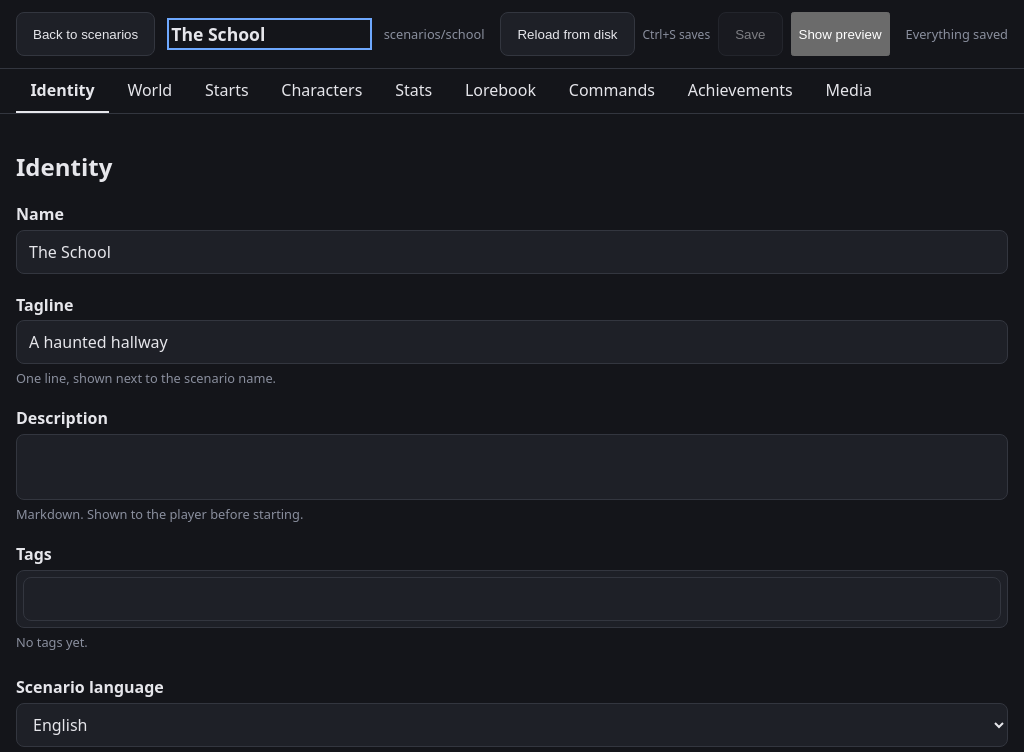
Test: BuilderEditorScreen › renders the identity tab with the name field from the draft and marks dirty on edit
expect the text "Everything saved" is shown: met, box [906,25,1008,43]
Type " Reborn" into the field labelled "Name".
click(512, 252); type(" Reborn")  # box [16,230,1008,274]
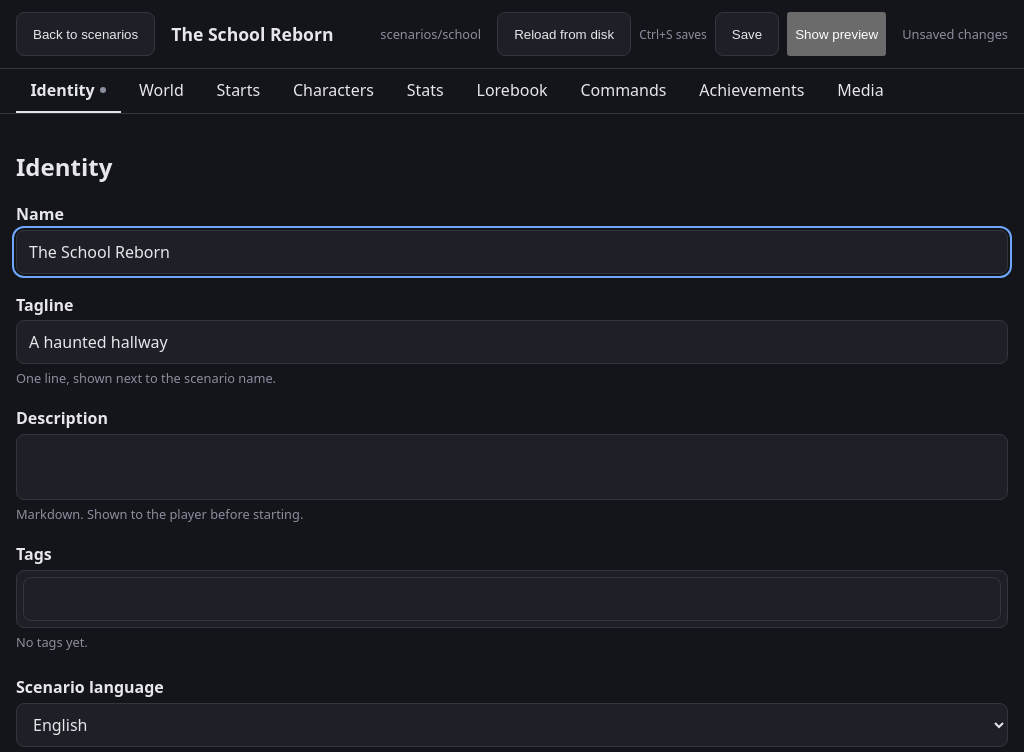
expect the text "Unsaved changes" is shown: met, box [902,25,1008,43]
